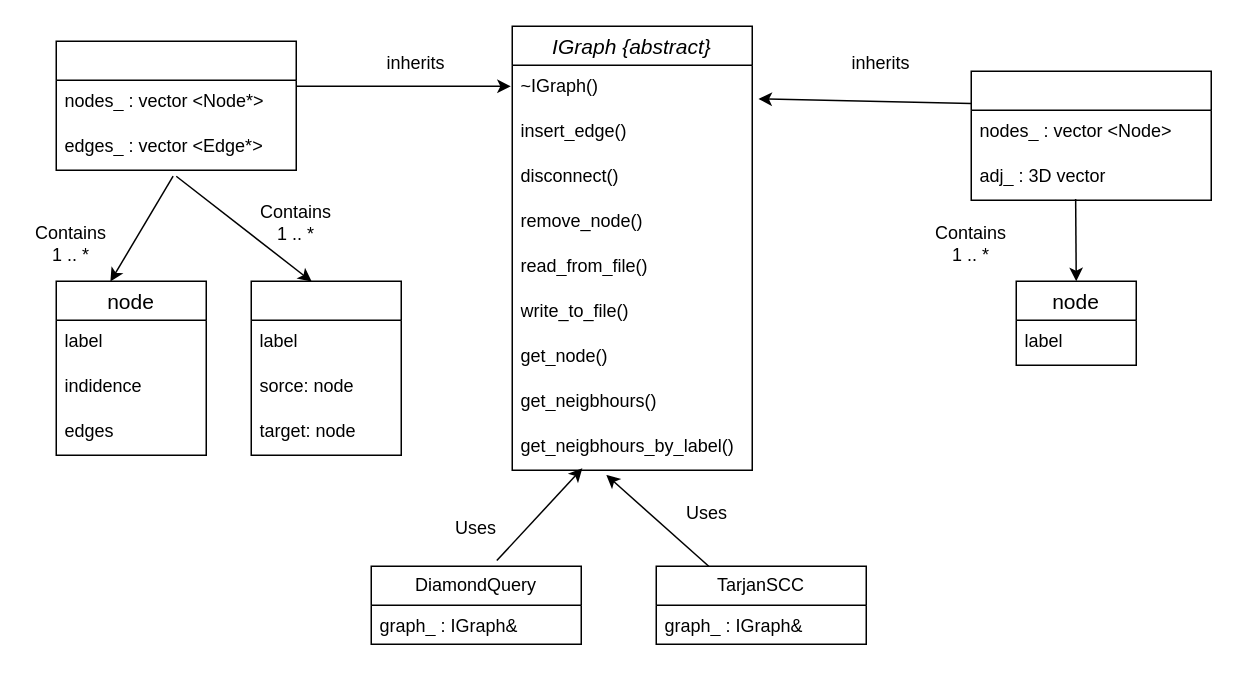
Image size: 1238x675. Some labels were removed from this diagram. Each missing label, with the box of its shape:
AdjacencyMatrixGraph: (970, 70, 1211, 200)
edge: (250, 280, 401, 455)
IncidenceListGraph: (55, 40, 296, 170)
